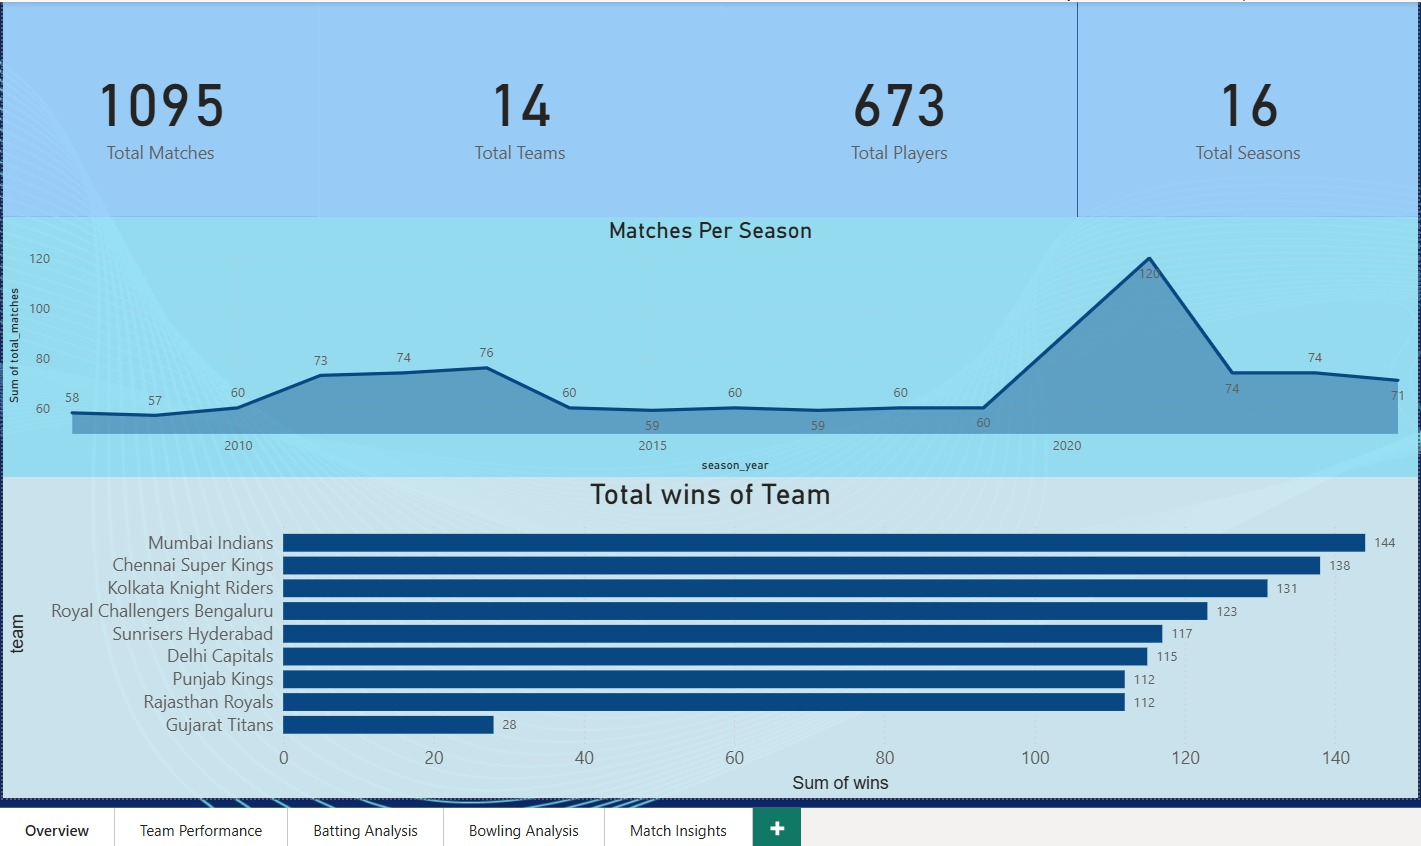

What the dashboard file says about the page in this screenshot:
{"tool":"powerbi","page":{"name":"Overview","canvas":[1280,720],"ordinal":0},"visuals":[{"type":"card","fields":{"Values":["_Measures.Total Matches"]},"box":[0,0,285.3,194.8],"z":0,"group":"g1"},{"type":"lineChart","title":"Matches Per Season","fields":{"Category":["season_stats.season_year"],"Y":["Sum(season_stats.total_matches)"]},"box":[0,194.5,1279.9,235.2],"z":0},{"type":"card","fields":{"Values":["_Measures.Total Players"]},"box":[650.4,0,321.5,194.9],"z":1000,"group":"g1"},{"type":"clusteredBarChart","title":"Total wins of Team","fields":{"Category":["team_performance.team"],"Y":["Sum(team_performance.wins)"]},"box":[0,429.7,1279.9,290.6],"z":1000},{"type":"card","fields":{"Values":["_Measures.Total Seasons"]},"box":[971.9,0,307.8,194.8],"z":2000,"group":"g1"},{"type":"group","id":"g1","title":"Group 1","box":[0,0,1279.7,194.9],"z":3000},{"type":"card","fields":{"Values":["_Measures.Total Teams"]},"box":[284.8,0,365.6,194.9],"z":3000,"group":"g1"}]}

Visuals, with their boxes on the page's 1280x720 design canvas (x1, y1, x2, y2). These are canvas units, not pixel positions in the 1421x846 screenshot, which may show the page scaled, cropped or inside an application window:
card - _Measures.Total Matches: locate(0, 0, 285, 195)
"Matches Per Season" lineChart: locate(0, 194, 1280, 430)
card - _Measures.Total Players: locate(650, 0, 972, 195)
"Total wins of Team" clusteredBarChart: locate(0, 430, 1280, 720)
card - _Measures.Total Seasons: locate(972, 0, 1280, 195)
"Group 1" group: locate(0, 0, 1280, 195)
card - _Measures.Total Teams: locate(285, 0, 650, 195)
